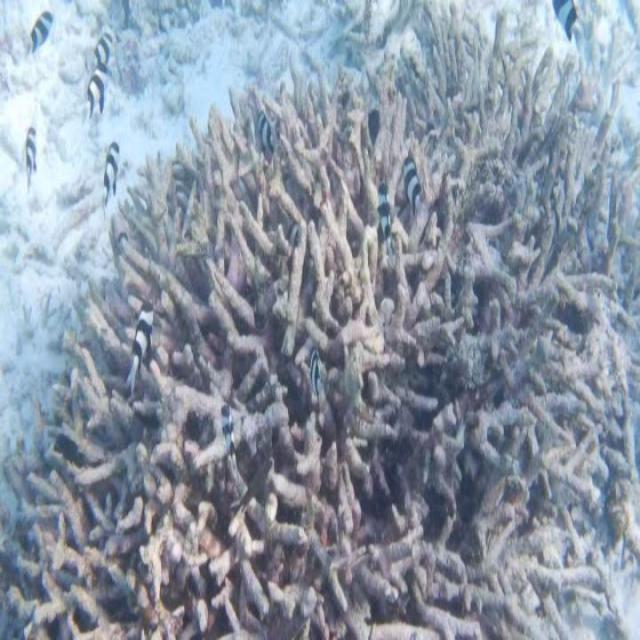Dead Coral: (52, 73, 640, 631)
